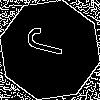J: (25, 25, 76, 61)
